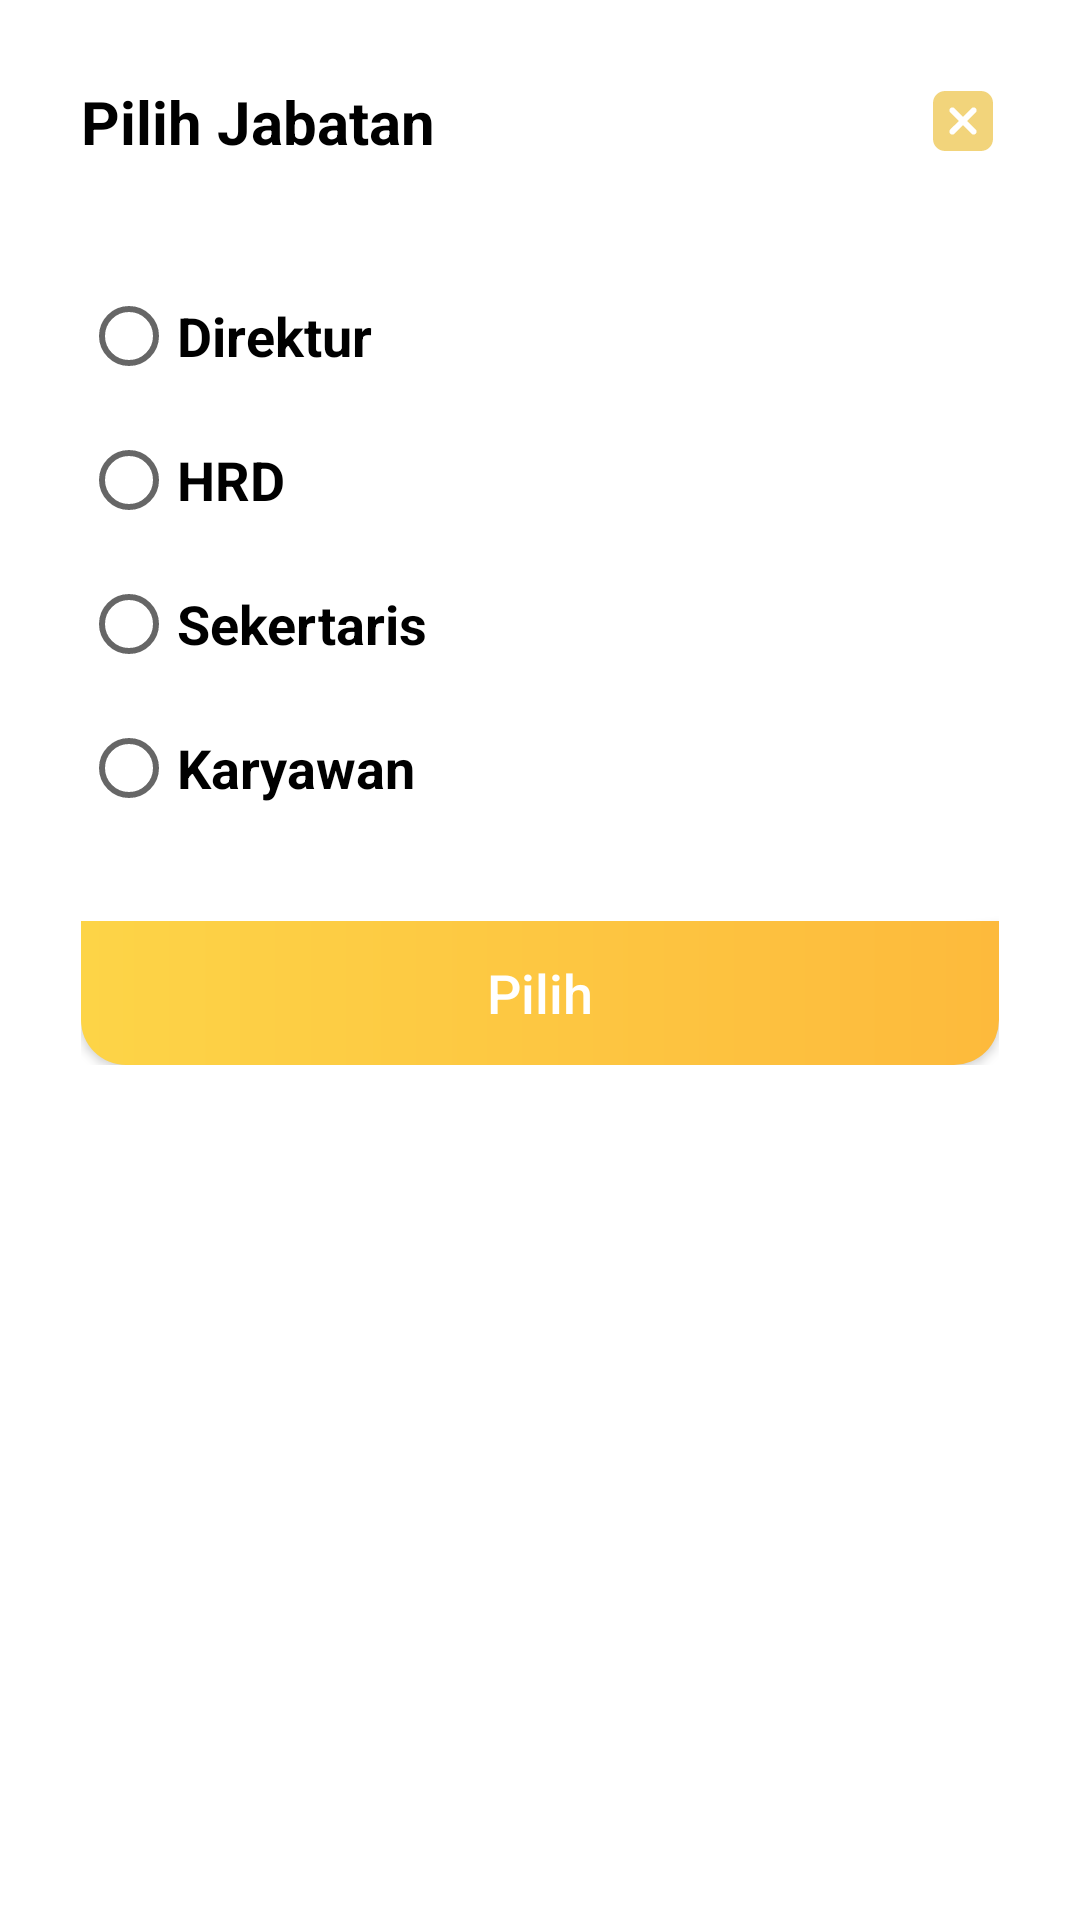

Where icons sit on this 1080w x 1920h app screen, as region(x1, y1, x2, y2):
close: region(933, 91, 993, 151)
